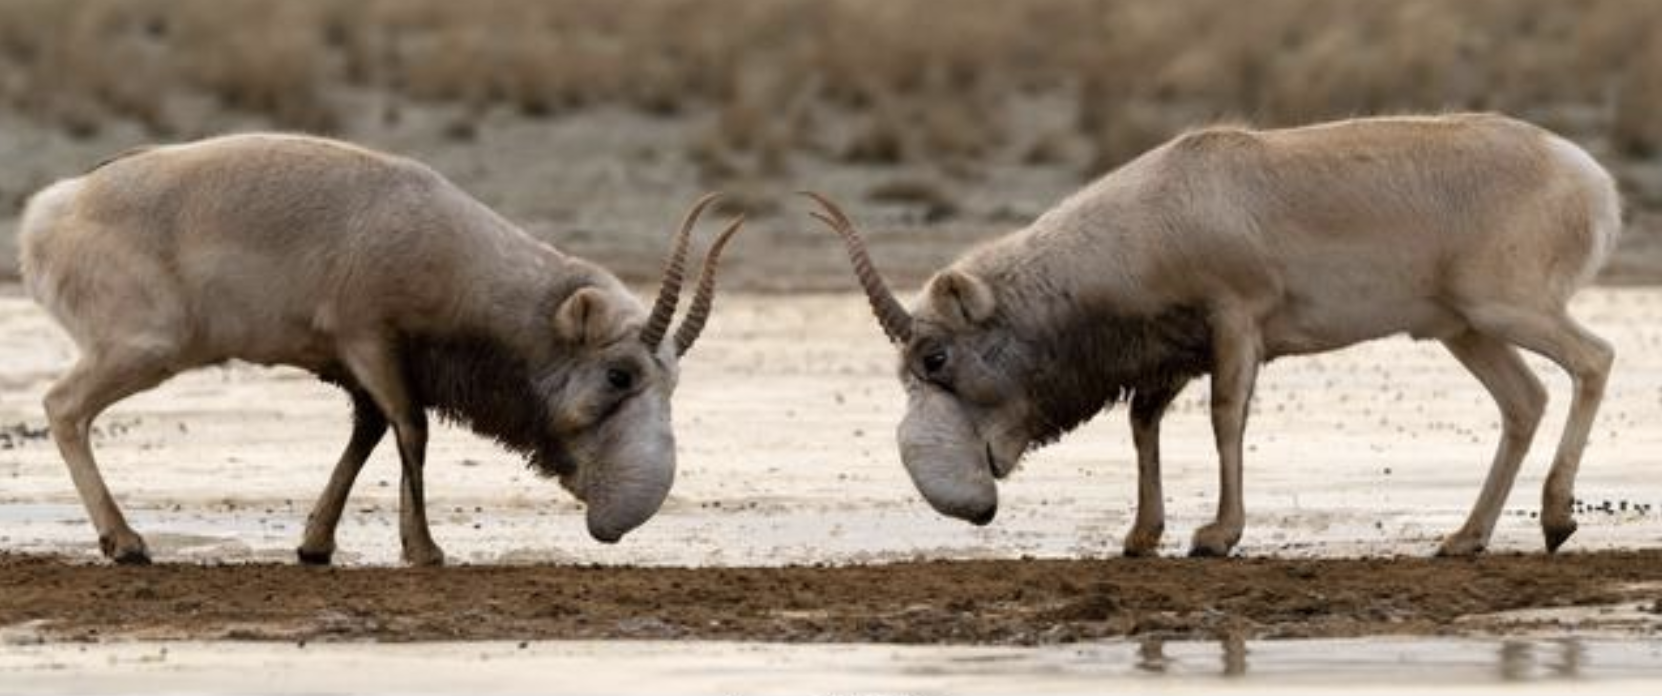saiga: (852, 75, 1593, 573), (8, 101, 742, 536)
